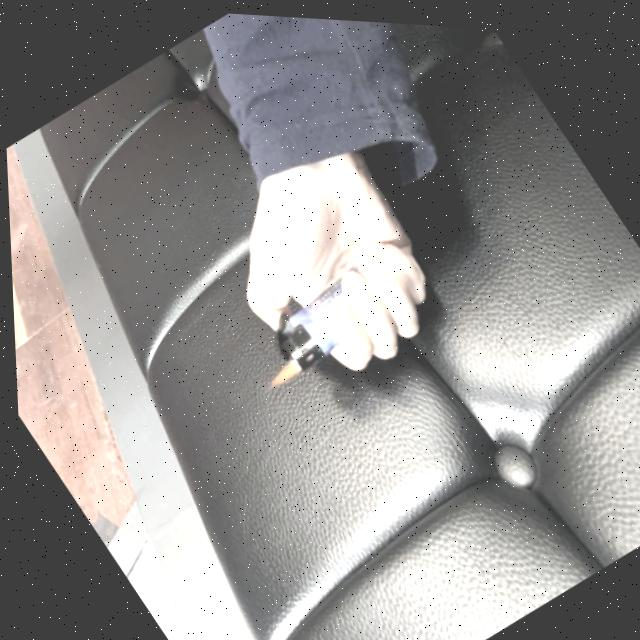Fire: (261, 351, 301, 385)
